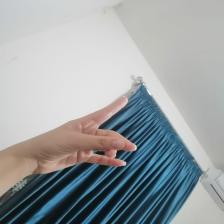five: (46, 96, 150, 172)
